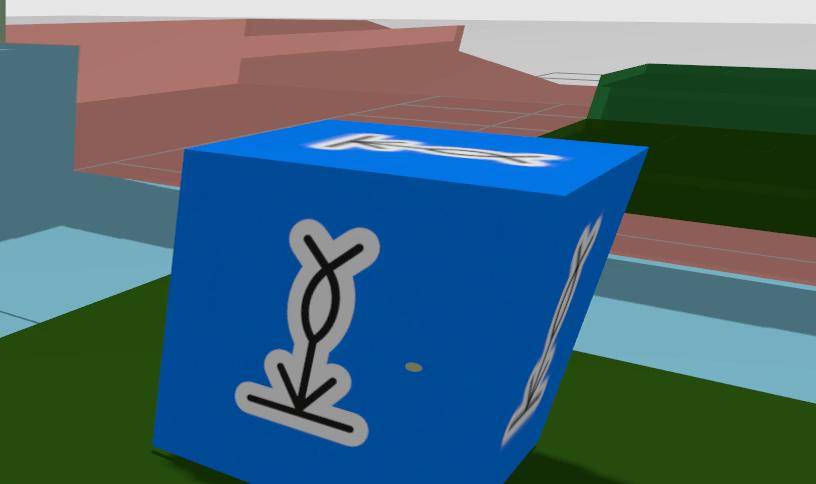KFS_REAL: (154, 119, 645, 484), (235, 219, 377, 446)
